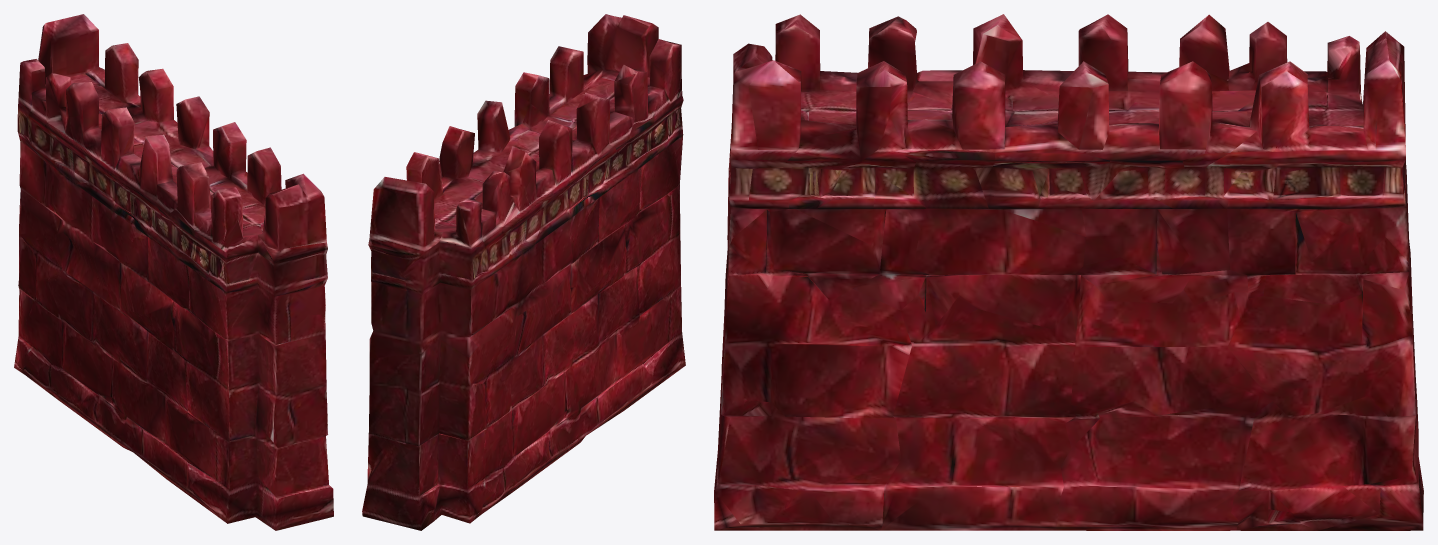
The model's file is castle_wall_diamond_red.glb.
3 renders of one model, left to right at view 1: azimuth 30°, elevation 25°; view 2: azimuth 150°, elevation 25°; view 3: azimuth 270°, elevation 25°, orthographic. The views are drawn at different scales.
Visible parts, largest first — view 1: tripo_node_06179193-1344-4d8b-99e5-17598ad9e9df; view 2: tripo_node_06179193-1344-4d8b-99e5-17598ad9e9df; view 3: tripo_node_06179193-1344-4d8b-99e5-17598ad9e9df.
Boxes of the visible parts, bbox=[...] form: tripo_node_06179193-1344-4d8b-99e5-17598ad9e9df: bbox=[14, 14, 333, 530]; tripo_node_06179193-1344-4d8b-99e5-17598ad9e9df: bbox=[362, 14, 685, 530]; tripo_node_06179193-1344-4d8b-99e5-17598ad9e9df: bbox=[714, 14, 1423, 530].
Bounding box in the file's own units: 0.2077 × 0.7075 × 0.9771.
Materials: 1 (1 with a texture image).
